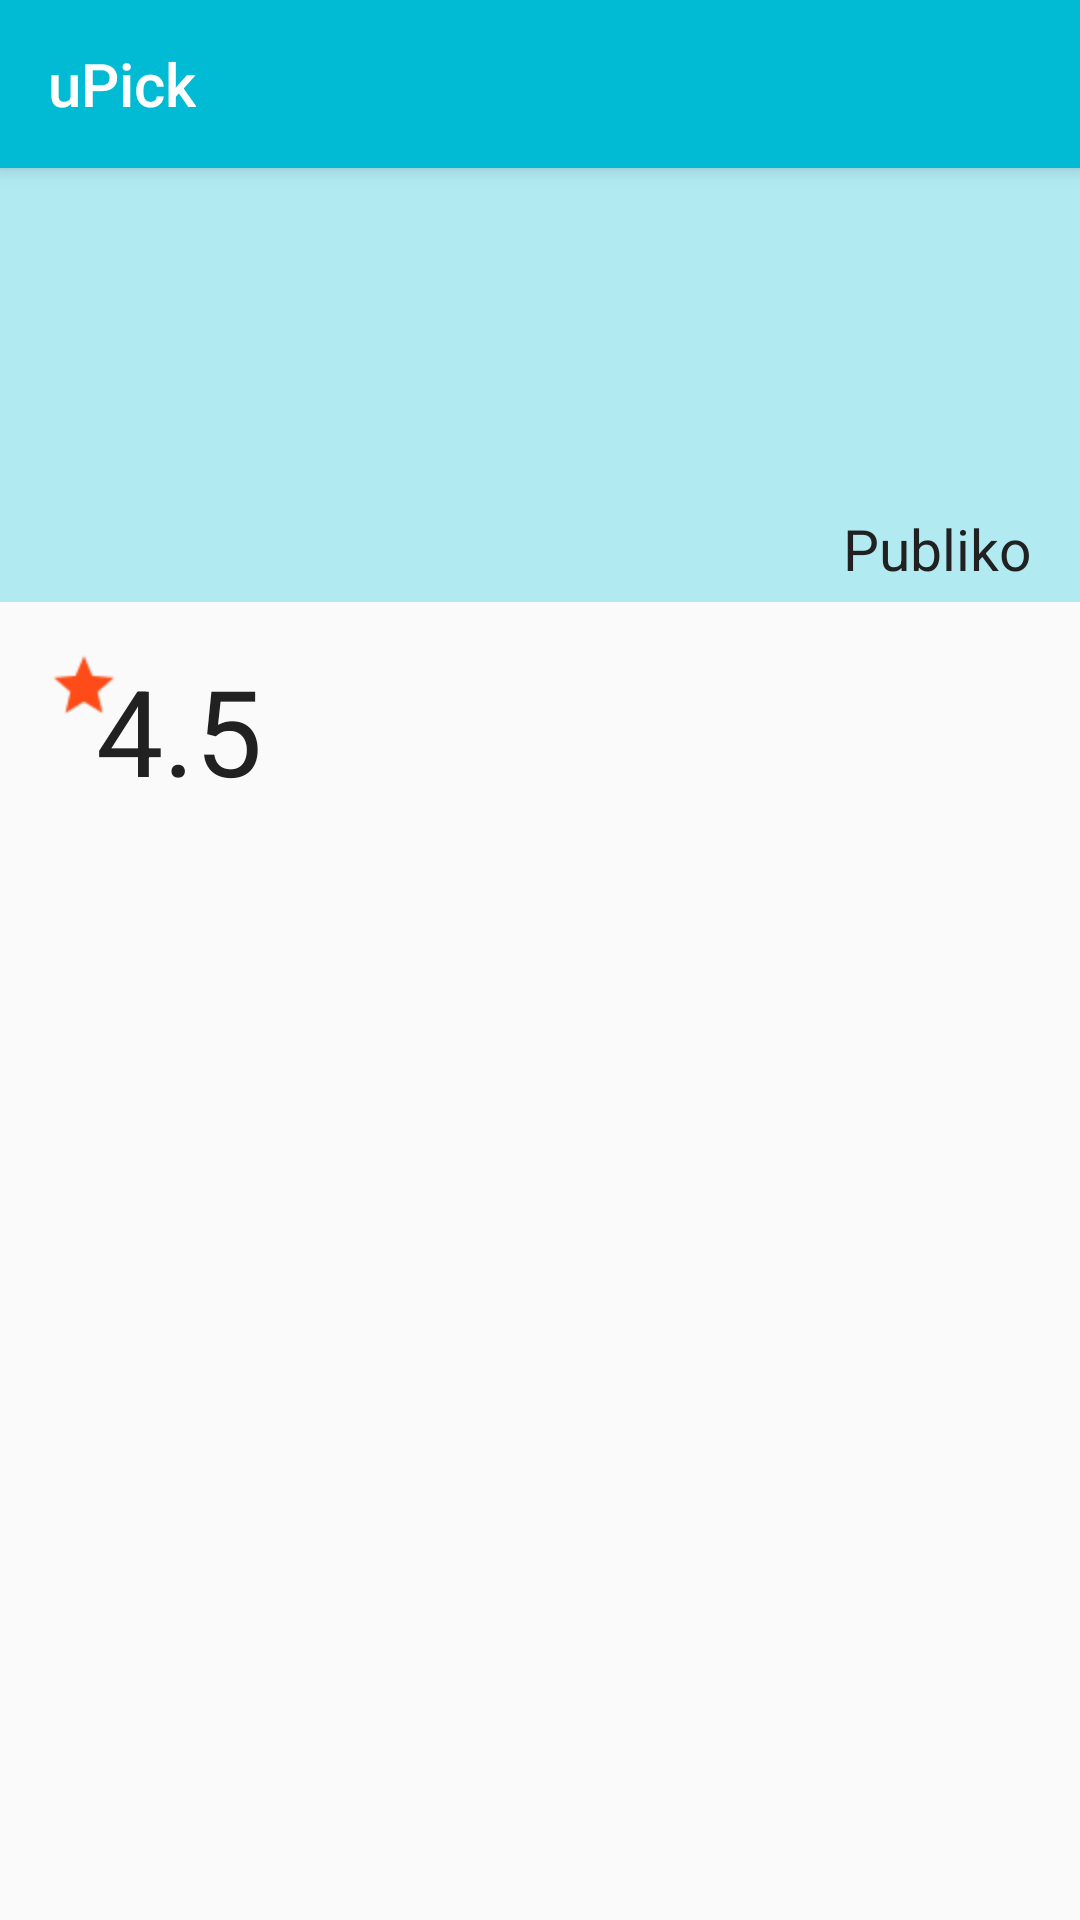

Where icons sit on this 1080 x 1920 app screen, as [left=x1, top=y1, right=x2, bottom=y2]:
star: [left=54, top=656, right=114, bottom=713]
